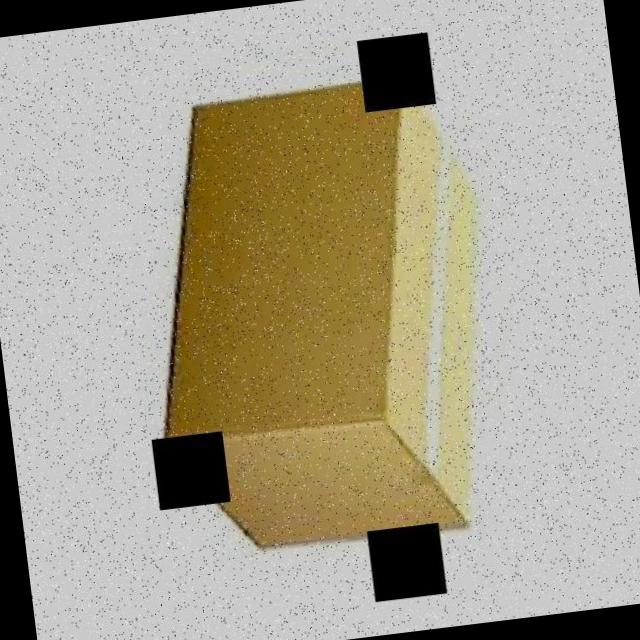box: (115, 54, 518, 572)
